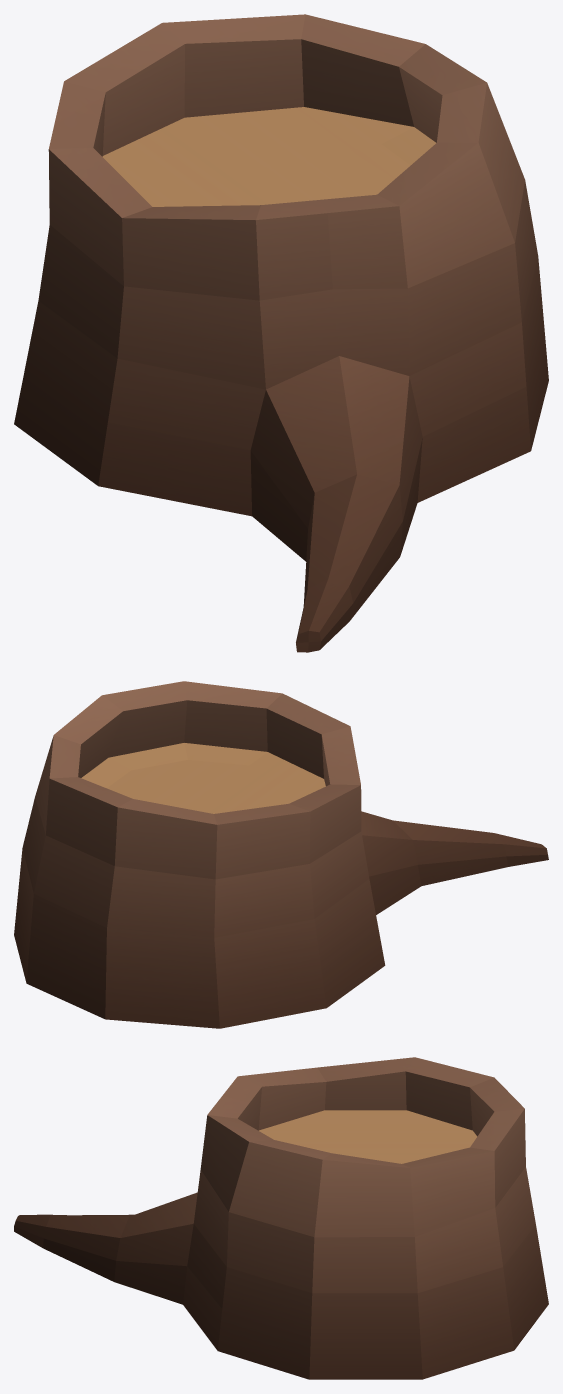
The model's file is pień2.fbx.
3 views of the same model, one above another, from view 1: azimuth 30°, elevation 25°; view 2: azimuth 150°, elevation 25°; view 3: azimuth 270°, elevation 25° (orthographic). The views are drawn at different scales.
Visible parts, largest first — view 1: pień2; view 2: pień2; view 3: pień2.
Boxes of the visible parts, left/top/right/bottom form: pień2: left=14, top=14, right=548, bottom=652; pień2: left=14, top=681, right=548, bottom=1028; pień2: left=14, top=1057, right=548, bottom=1379.
Bounding box in the file's own units: 105 × 65.76 × 155.
